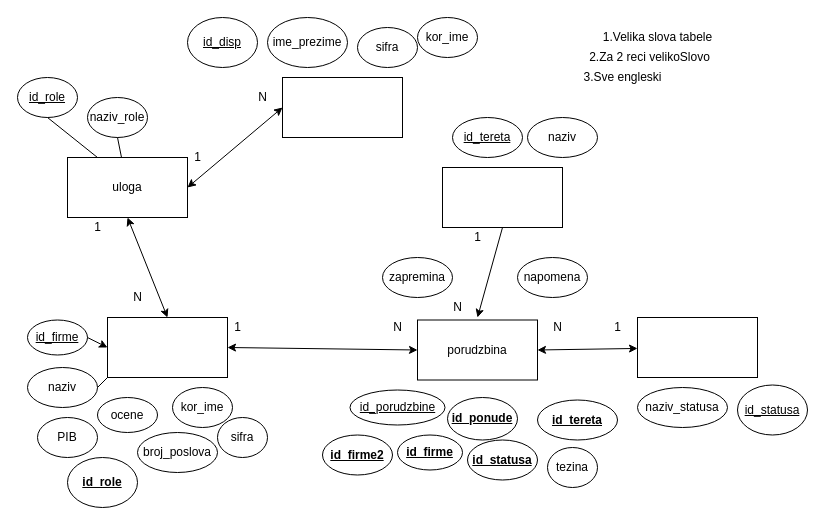
The diagram is 825 pixels wide and 525 high, and some of its shapes have lost their labels. The centre of each missing label's shape, as x and y in pixels:
dispecer: the point at 342,107
firma: the point at 167,347
status porudzbine: the point at 697,347
teret: the point at 502,197
